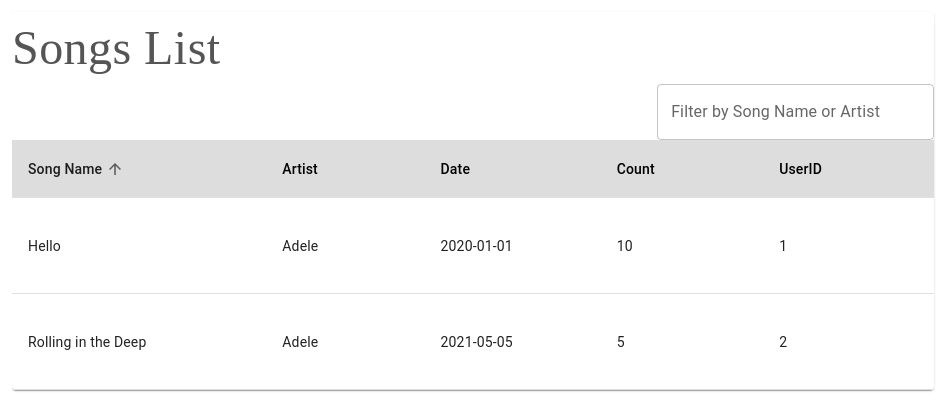
it: filters songs by input text
Expected: the text "Hello" is shown, [12,198,266,294]
Expected: the text "Rolling in the Deep" is shown, [12,294,266,390]
Note: Simulate filtering by 'Hello'
Type "Hello" into the field labelled "Filter by Song Name or Artist" at (795, 112), box [657,84,934,140]
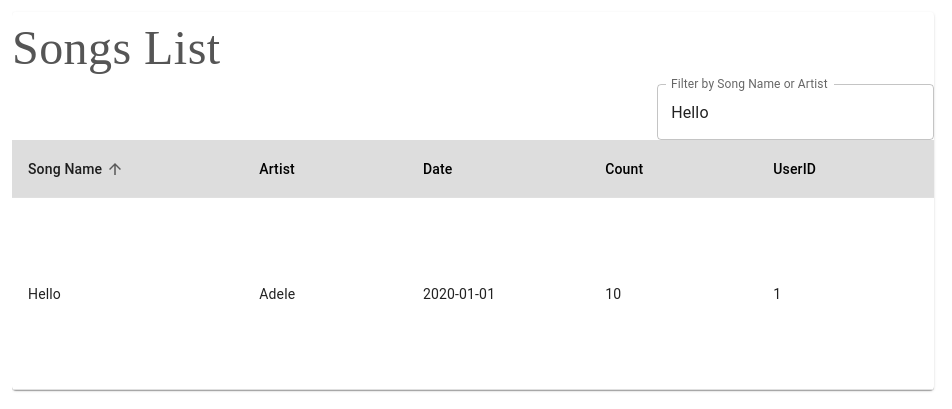
Expected: the text "Hello" is shown, [12,198,243,390]
Result: the text "Rolling in the Deep" is gone
